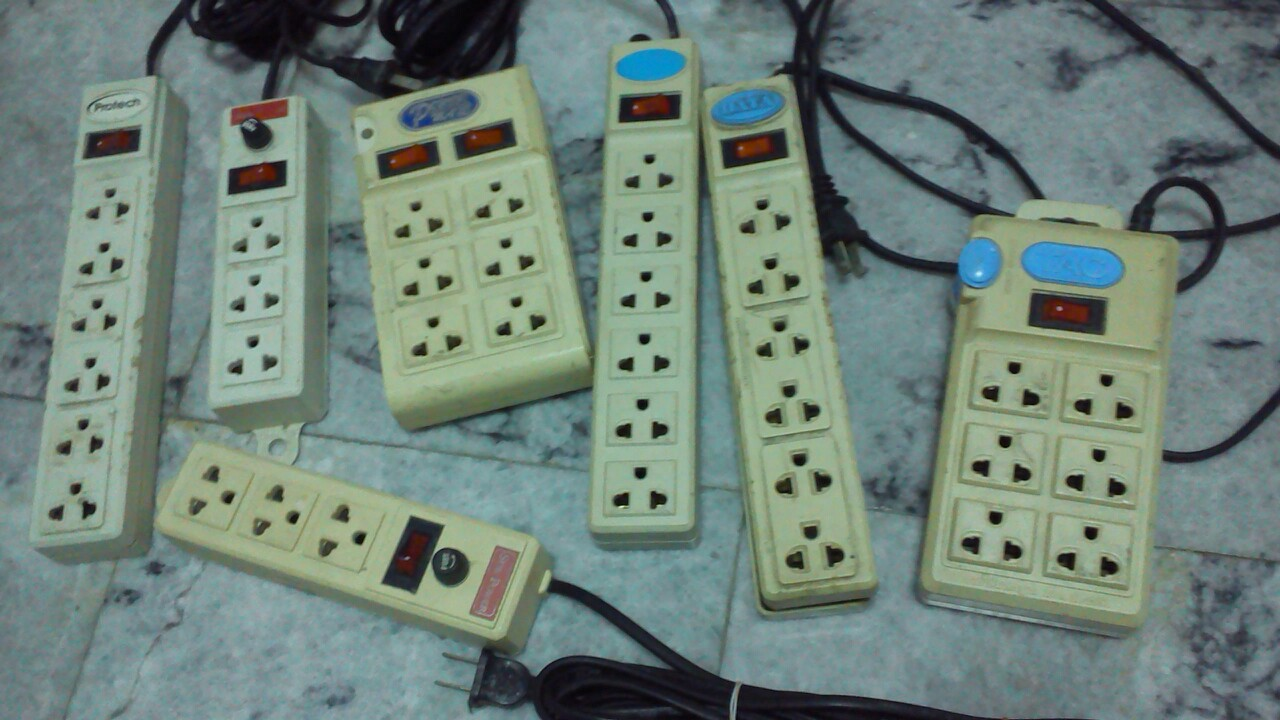Three_eye_plug: (908, 190, 1184, 649), (685, 63, 890, 634), (342, 59, 607, 447), (148, 434, 557, 663), (21, 69, 186, 572), (586, 27, 714, 557), (205, 92, 341, 450)
